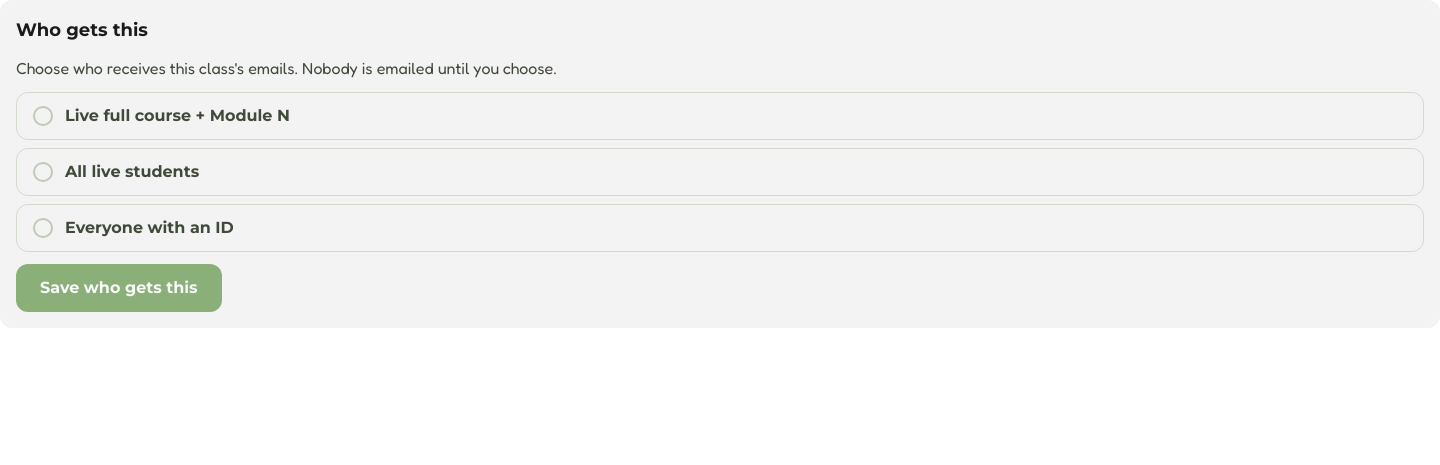
Scenario: AudiencePicker › choosing a preset loads both lists with counts, collapsed
The width and height of the screenshot is (1440, 465).
Click the radio button labelled "All live students" at (132, 172), box [16, 148, 1424, 196]
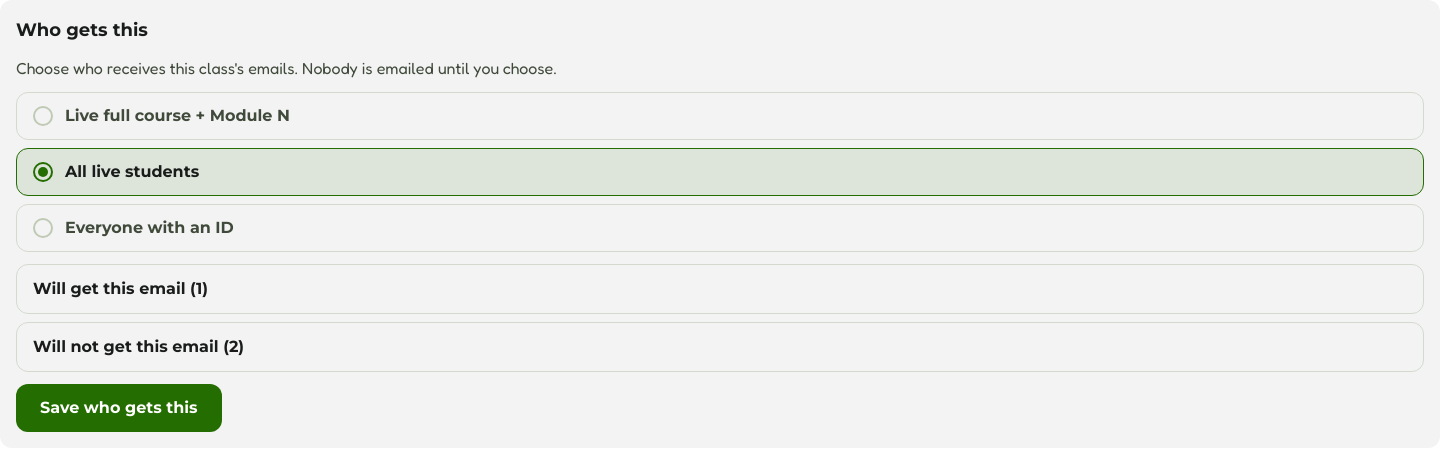
expect the heading "Will get this email (1)" is shown: met, box [33, 279, 208, 298]
expect the heading "Will not get this email (2)" is shown: met, box [33, 337, 244, 356]
